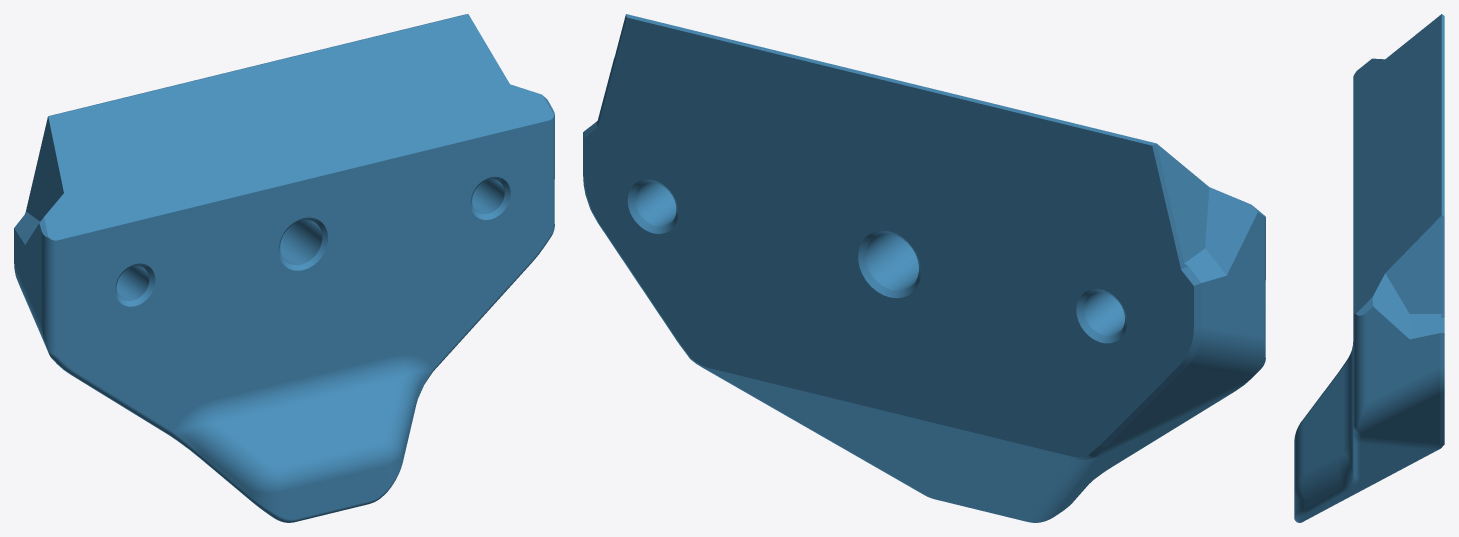
The model's file is A4T - WWG2 - Extruder Adapter [xol-carriage].gltf.
3 renders of one model, left to right at view 1: azimuth 30°, elevation 25°; view 2: azimuth 150°, elevation 25°; view 3: azimuth 270°, elevation 25°, orthographic. The views are drawn at different scales.
Visible parts, largest first — view 1: A4T - WWG2 - Extruder Adapter [xol-carriage]; view 2: A4T - WWG2 - Extruder Adapter [xol-carriage]; view 3: A4T - WWG2 - Extruder Adapter [xol-carriage].
Boxes of the visible parts, x1=… form: A4T - WWG2 - Extruder Adapter [xol-carriage]: x1=14, y1=14, x2=554, y2=522; A4T - WWG2 - Extruder Adapter [xol-carriage]: x1=583, y1=14, x2=1265, y2=522; A4T - WWG2 - Extruder Adapter [xol-carriage]: x1=1294, y1=14, x2=1444, y2=522.
Bounding box in the file's own units: 0.0532 × 0.0393 × 0.0138.
